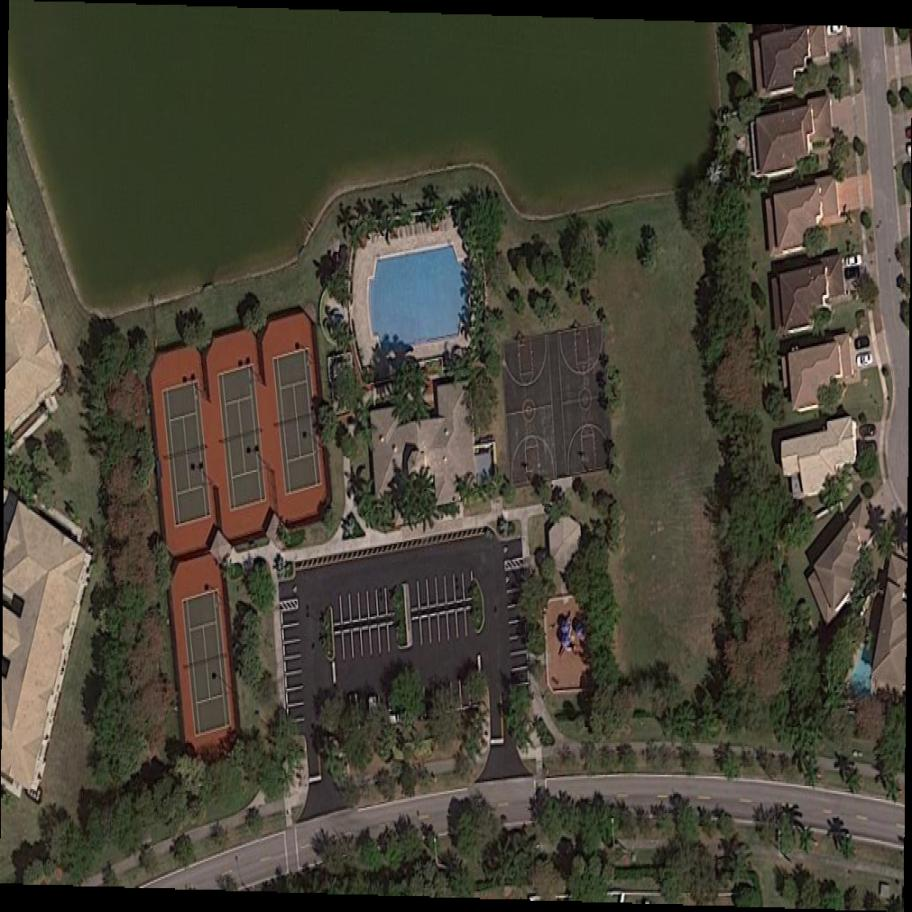small-vehicle: (387, 692, 400, 725), (370, 692, 379, 725), (857, 352, 874, 367), (845, 254, 863, 268), (853, 335, 869, 348), (859, 423, 876, 435), (846, 268, 861, 281)
